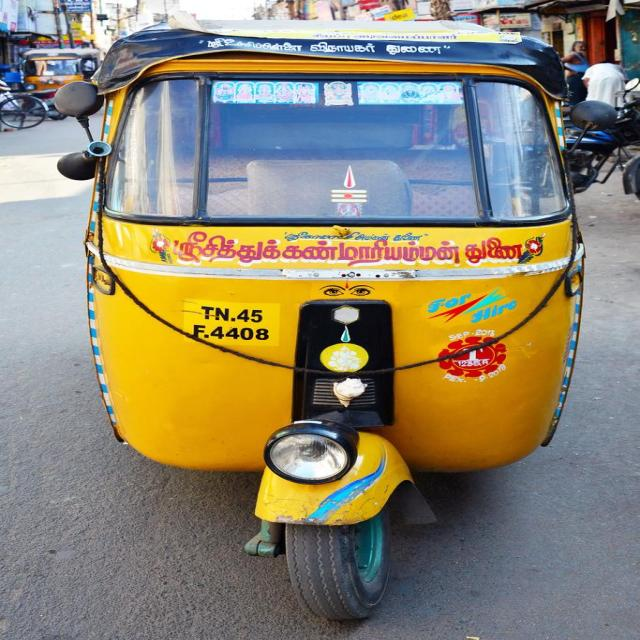auto ahead at: (50, 17, 598, 624)
